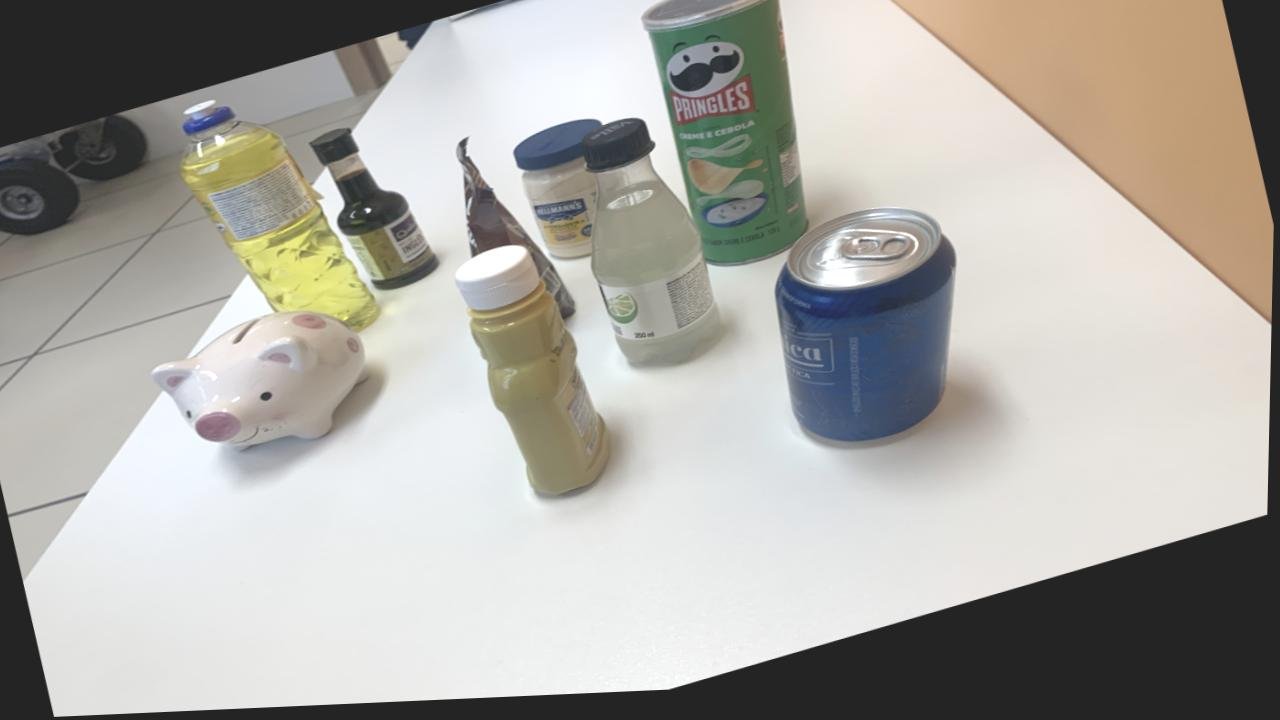Coffee-Pantry_Items: (456, 143, 578, 324)
Detergent-Cleanup_Items: (181, 103, 382, 334)
English_Sauce-Pantry_Items: (311, 132, 441, 294)
Mayonnaise-Pantry_Items: (514, 124, 603, 263)
Mustard-Pantry_Items: (456, 250, 614, 500)
Pig_Safe-Miscellaneous: (154, 314, 371, 453)
Pringles-Snacks: (643, 0, 809, 273)
Soda-Drinks: (581, 124, 723, 371)
Tonic-Drinks: (776, 215, 958, 450)
